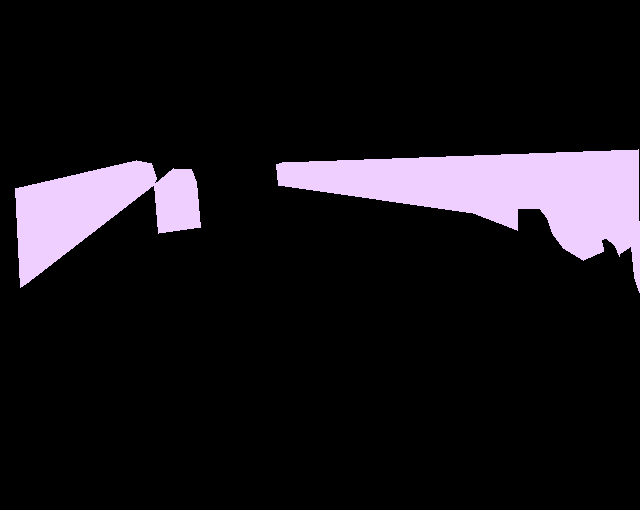Train: (276, 149, 640, 292), (15, 160, 156, 288), (154, 168, 201, 234)
